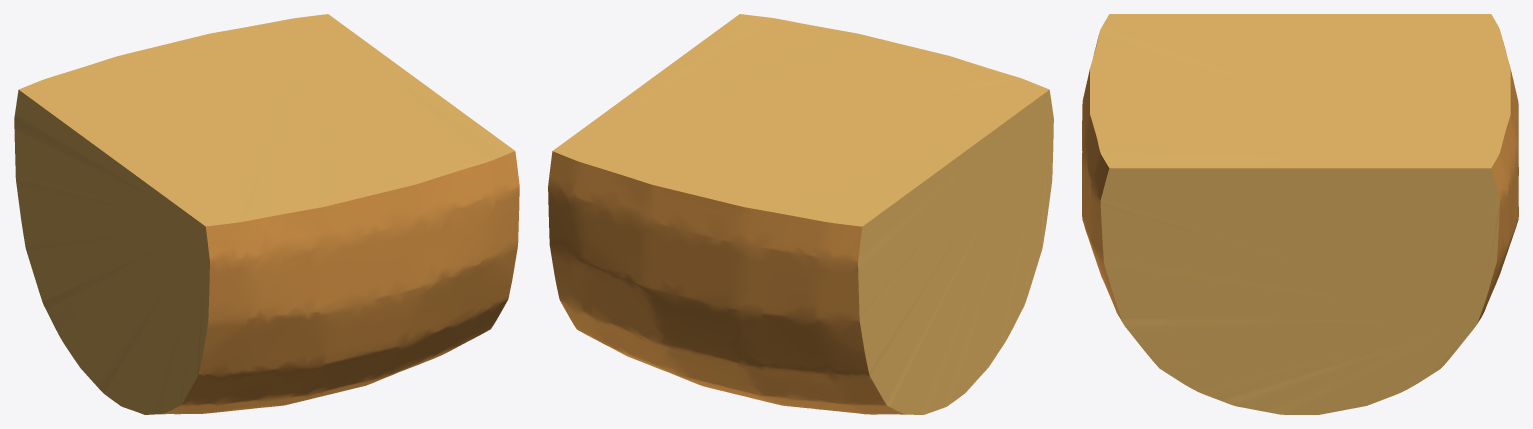
File: Saltena_Piece_03.fbx
3 views of the same model, side by side, from view 1: azimuth 30°, elevation 25°; view 2: azimuth 150°, elevation 25°; view 3: azimuth 270°, elevation 25° (orthographic). The views are drawn at different scales.
Parts seen in each view (by area): view 1: Saltena_Piece_03; view 2: Saltena_Piece_03; view 3: Saltena_Piece_03.
Boxes of the visible parts, x1,y1,x2,y2 form: Saltena_Piece_03: [14, 14, 519, 414]; Saltena_Piece_03: [548, 14, 1053, 414]; Saltena_Piece_03: [1082, 14, 1518, 414].
Bounding box in the file's own units: 48.33 × 37.51 × 57.86.
